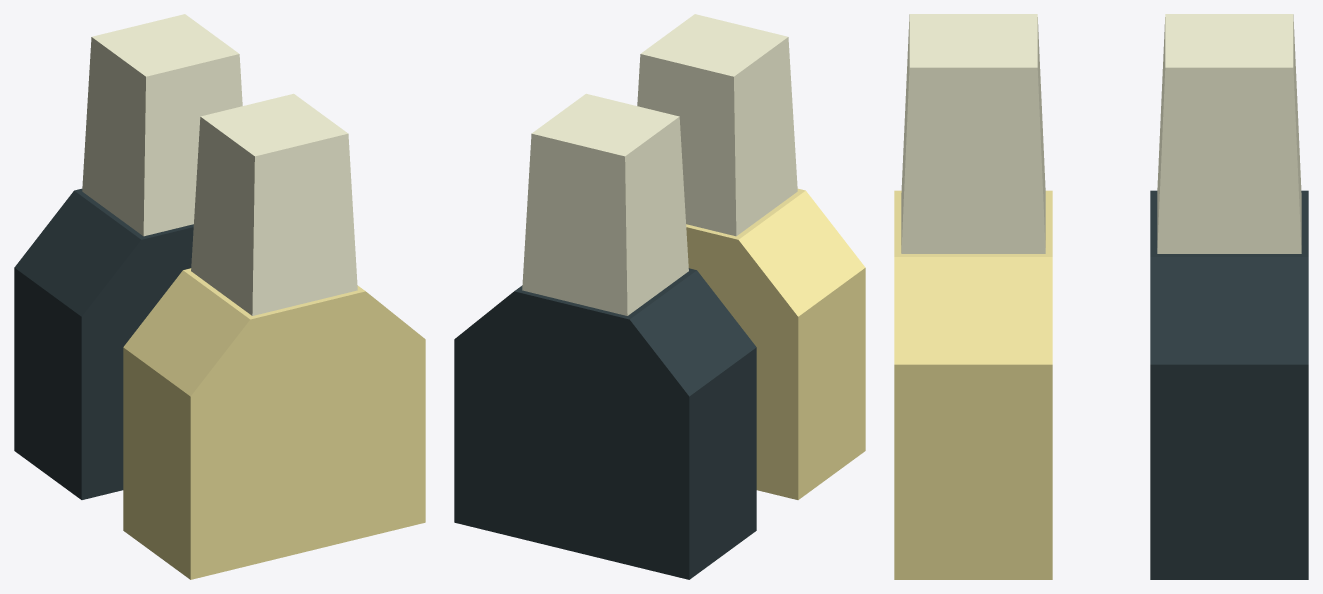
File: Nail Polish.FBX
The picture shows the model from 3 angles, left to right: view 1: azimuth 30°, elevation 25°; view 2: azimuth 150°, elevation 25°; view 3: azimuth 270°, elevation 25°; orthographic projection. The views are drawn at different scales.
Parts seen in each view (by area): view 1: Box001, Box002; view 2: Box002, Box001; view 3: Box001, Box002.
Part boxes in pixels (<box>): Box001: <box>123,93,425,579</box>; Box002: <box>14,14,242,499</box>; Box002: <box>454,93,756,579</box>; Box001: <box>637,14,865,499</box>; Box001: <box>894,14,1052,579</box>; Box002: <box>1150,14,1308,579</box>.
Size of the model in its own units: 30 by 49 by 38.97.
